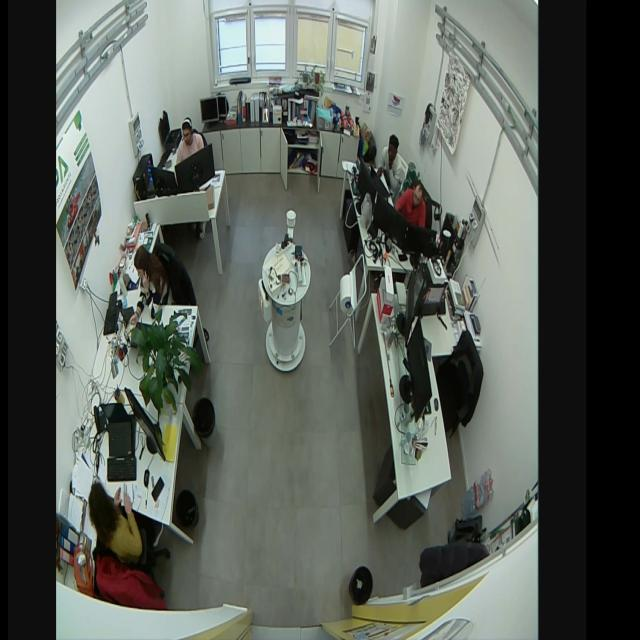Persona: (86, 476, 145, 561), (129, 240, 171, 330), (395, 178, 428, 234), (376, 130, 406, 190), (173, 115, 205, 166)
